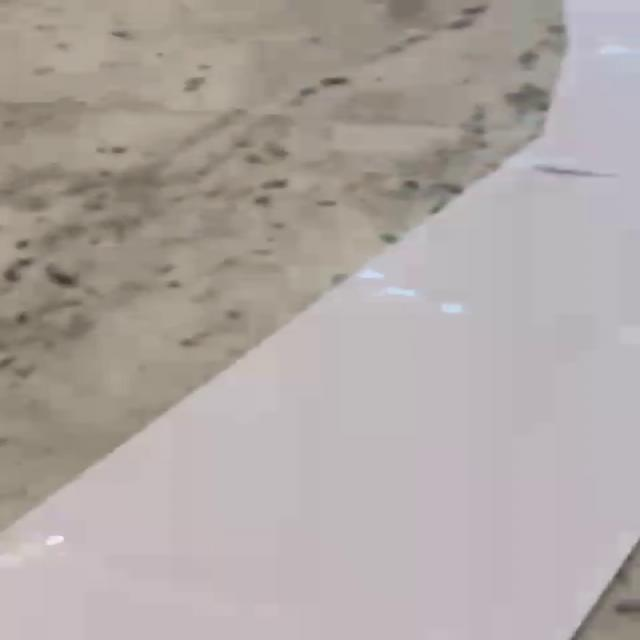road: (0, 0, 640, 640)
